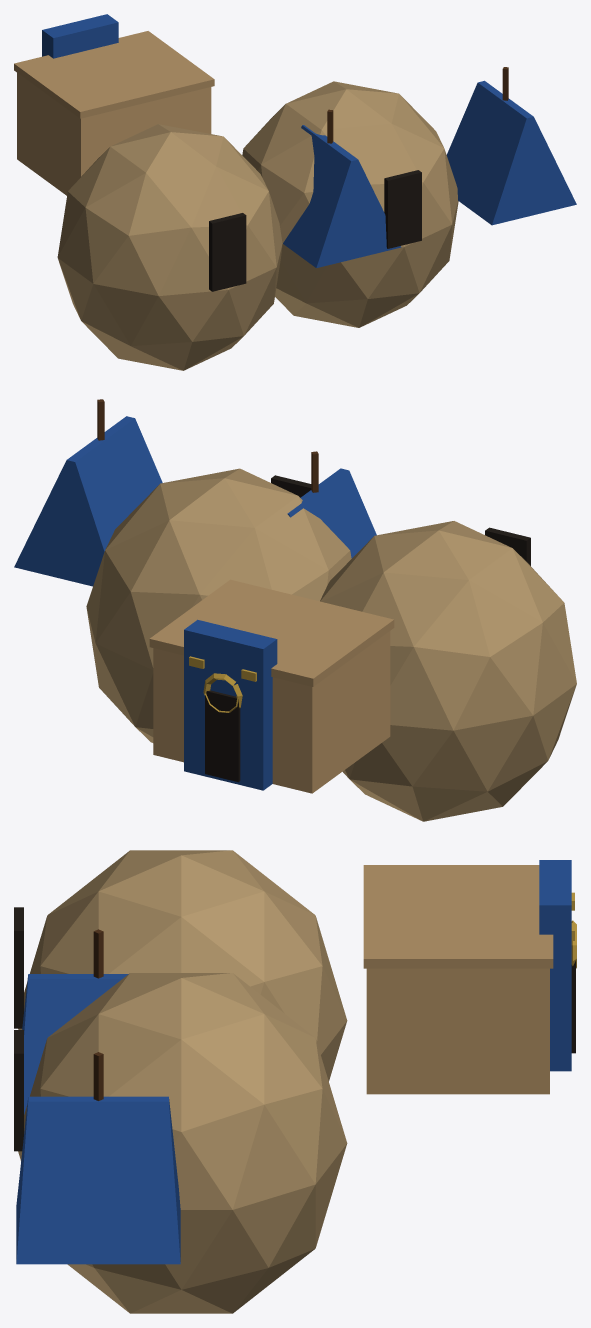
Rendered from minotaur_row.glb.
3 renders of one model, top to bottom at view 1: azimuth 30°, elevation 25°; view 2: azimuth 150°, elevation 25°; view 3: azimuth 270°, elevation 25°, orthographic. The views are drawn at different scales.
Visible parts, largest first — view 1: minotaur_row; view 2: minotaur_row; view 3: minotaur_row.
Part boxes in pixels (x1=…): minotaur_row: x1=14, y1=14, x2=576, y2=370; minotaur_row: x1=14, y1=399, x2=576, y2=821; minotaur_row: x1=14, y1=850, x2=576, y2=1313.
Bounding box in the file's own units: 4.43 × 2.3 × 3.39.
